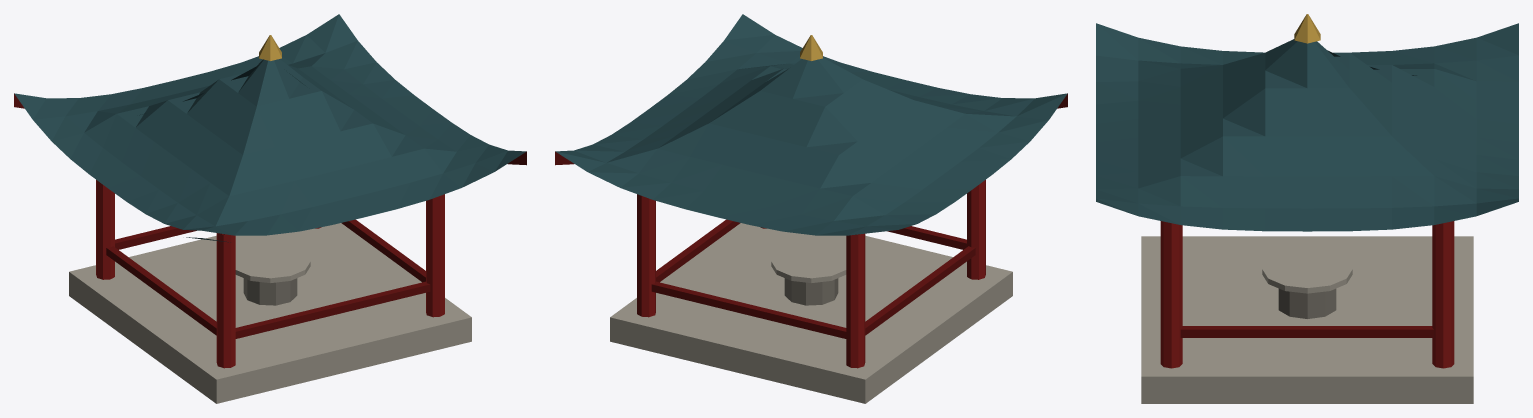
Rendered from pavilion.glb.
3 renders of one model, left to right at view 1: azimuth 30°, elevation 25°; view 2: azimuth 150°, elevation 25°; view 3: azimuth 270°, elevation 25°, orthographic. The views are drawn at different scales.
Visible parts, largest first — view 1: pavilion; view 2: pavilion; view 3: pavilion.
Part boxes in pixels (x1,y1,x2,y2): pavilion: [14, 14, 526, 403]; pavilion: [555, 14, 1067, 403]; pavilion: [1096, 14, 1518, 403].
Size of the model in its own units: 8.4 by 7 by 8.4.
